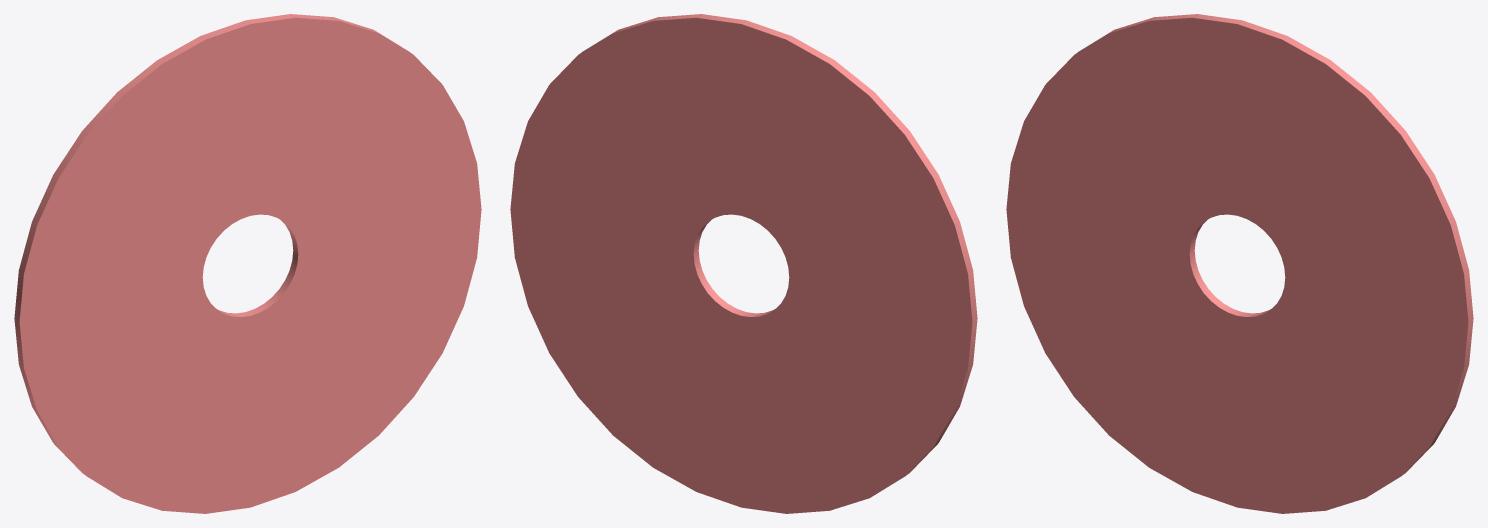
The model's file is GrandpaDisc001.fbx.
The picture shows the model from 3 angles, left to right: view 1: azimuth 30°, elevation 25°; view 2: azimuth 150°, elevation 25°; view 3: azimuth 330°, elevation 25°; orthographic projection.
Parts seen in each view (by area): view 1: GrandpaDisc001; view 2: GrandpaDisc001; view 3: GrandpaDisc001.
Boxes of the visible parts, box(x1,y1,x2,y2) form: GrandpaDisc001: box(14, 14, 481, 513); GrandpaDisc001: box(510, 14, 977, 513); GrandpaDisc001: box(1006, 14, 1473, 513).
Bounding box in the file's own units: 0.2936 × 0.2936 × 0.00561.
